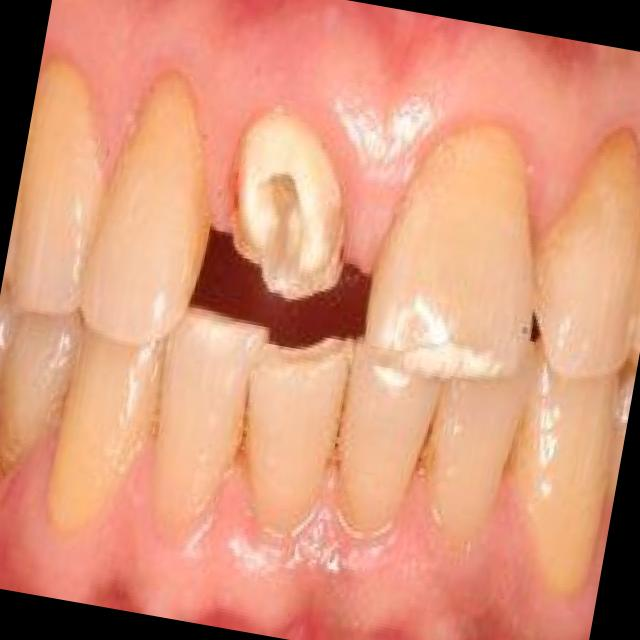Cavity: (255, 173, 303, 289)
Tooth: (365, 128, 536, 387), (81, 77, 210, 347), (510, 336, 620, 598), (532, 129, 640, 380), (2, 59, 106, 315), (152, 307, 269, 533), (47, 327, 167, 538), (229, 111, 345, 300), (245, 335, 353, 533), (425, 340, 535, 533), (337, 338, 440, 536), (0, 313, 80, 466)
